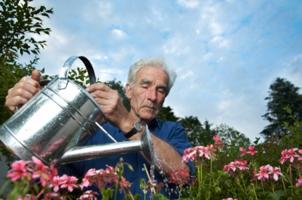person: (6, 58, 199, 200)
